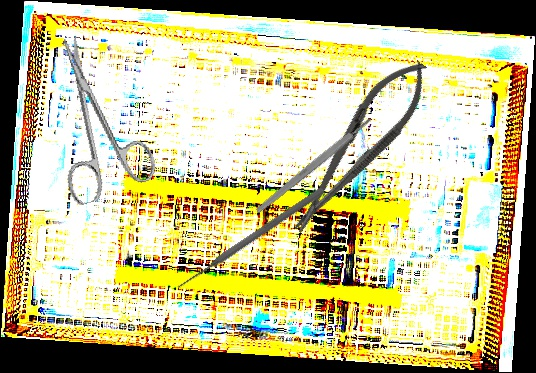Iris Scissors: (29, 24, 161, 208)
Needle Holder: (276, 48, 442, 245)
Pusher: (174, 185, 327, 292)
Scalpel Handle: (254, 116, 374, 215)
